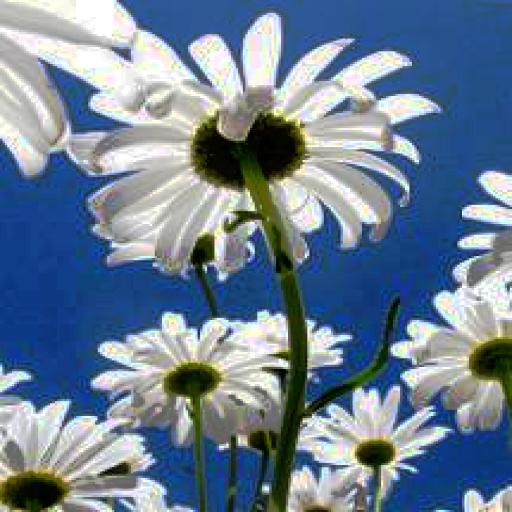daisy: (88, 58, 419, 241), (107, 322, 279, 437), (405, 297, 512, 452), (310, 401, 445, 474)
